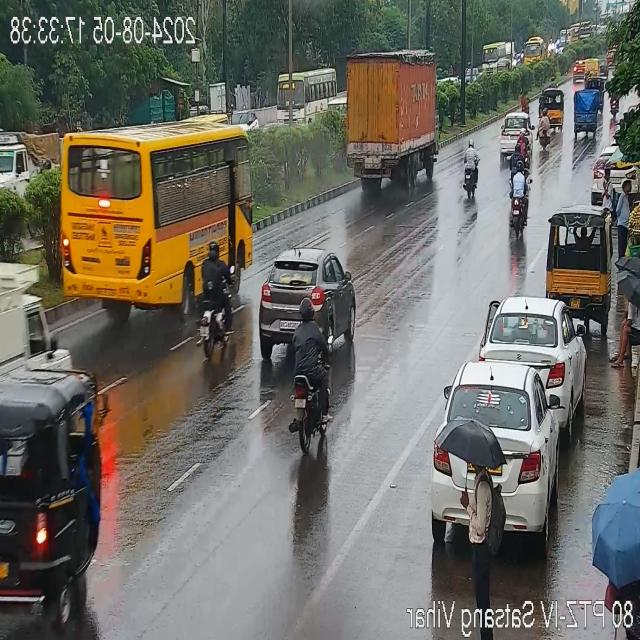2-wheelers: (291, 304, 330, 452), (197, 242, 231, 346), (504, 160, 532, 238), (452, 144, 480, 198), (534, 103, 554, 152), (521, 89, 529, 113)
auto: (0, 366, 101, 636), (544, 213, 612, 311), (566, 86, 602, 141), (534, 87, 564, 130), (586, 57, 600, 81)
bus: (61, 118, 262, 318), (270, 76, 336, 128), (481, 41, 515, 73), (523, 36, 545, 64)
car: (429, 362, 565, 550), (482, 298, 582, 404), (252, 249, 352, 353), (488, 112, 536, 158), (572, 60, 585, 83)
pedestrian: (459, 451, 502, 593), (619, 509, 640, 640), (610, 300, 640, 364), (610, 178, 634, 256)
truck: (346, 52, 440, 188)
